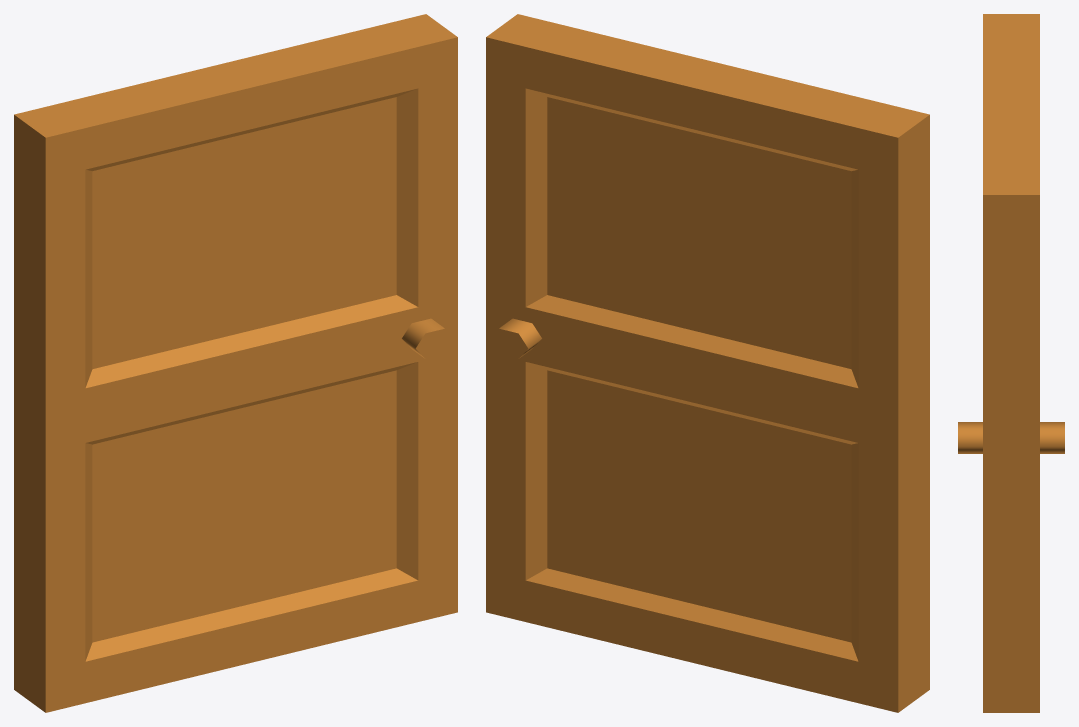
File: door.fbx
The picture shows the model from 3 angles, left to right: view 1: azimuth 30°, elevation 25°; view 2: azimuth 150°, elevation 25°; view 3: azimuth 270°, elevation 25°; orthographic projection. The views are drawn at different scales.
Visible parts, largest first — view 1: door; view 2: door; view 3: door.
Boxes of the visible parts, box(x1,y1,x2,y2) form: door: box(14, 14, 457, 712); door: box(486, 14, 929, 712); door: box(958, 14, 1064, 712).
Bounding box in the file's own units: 150 × 200 × 37.41.
